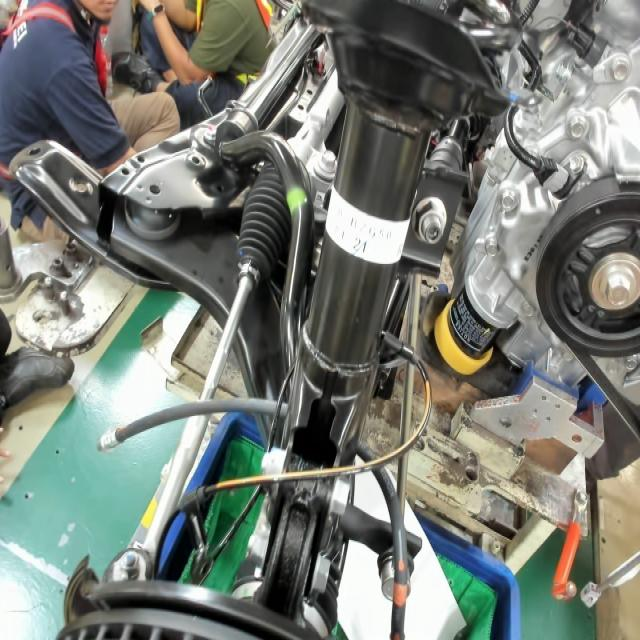Absorber RH-21: (350, 232, 370, 261)
Bar Stabilizer-HJ: (284, 179, 311, 214)
